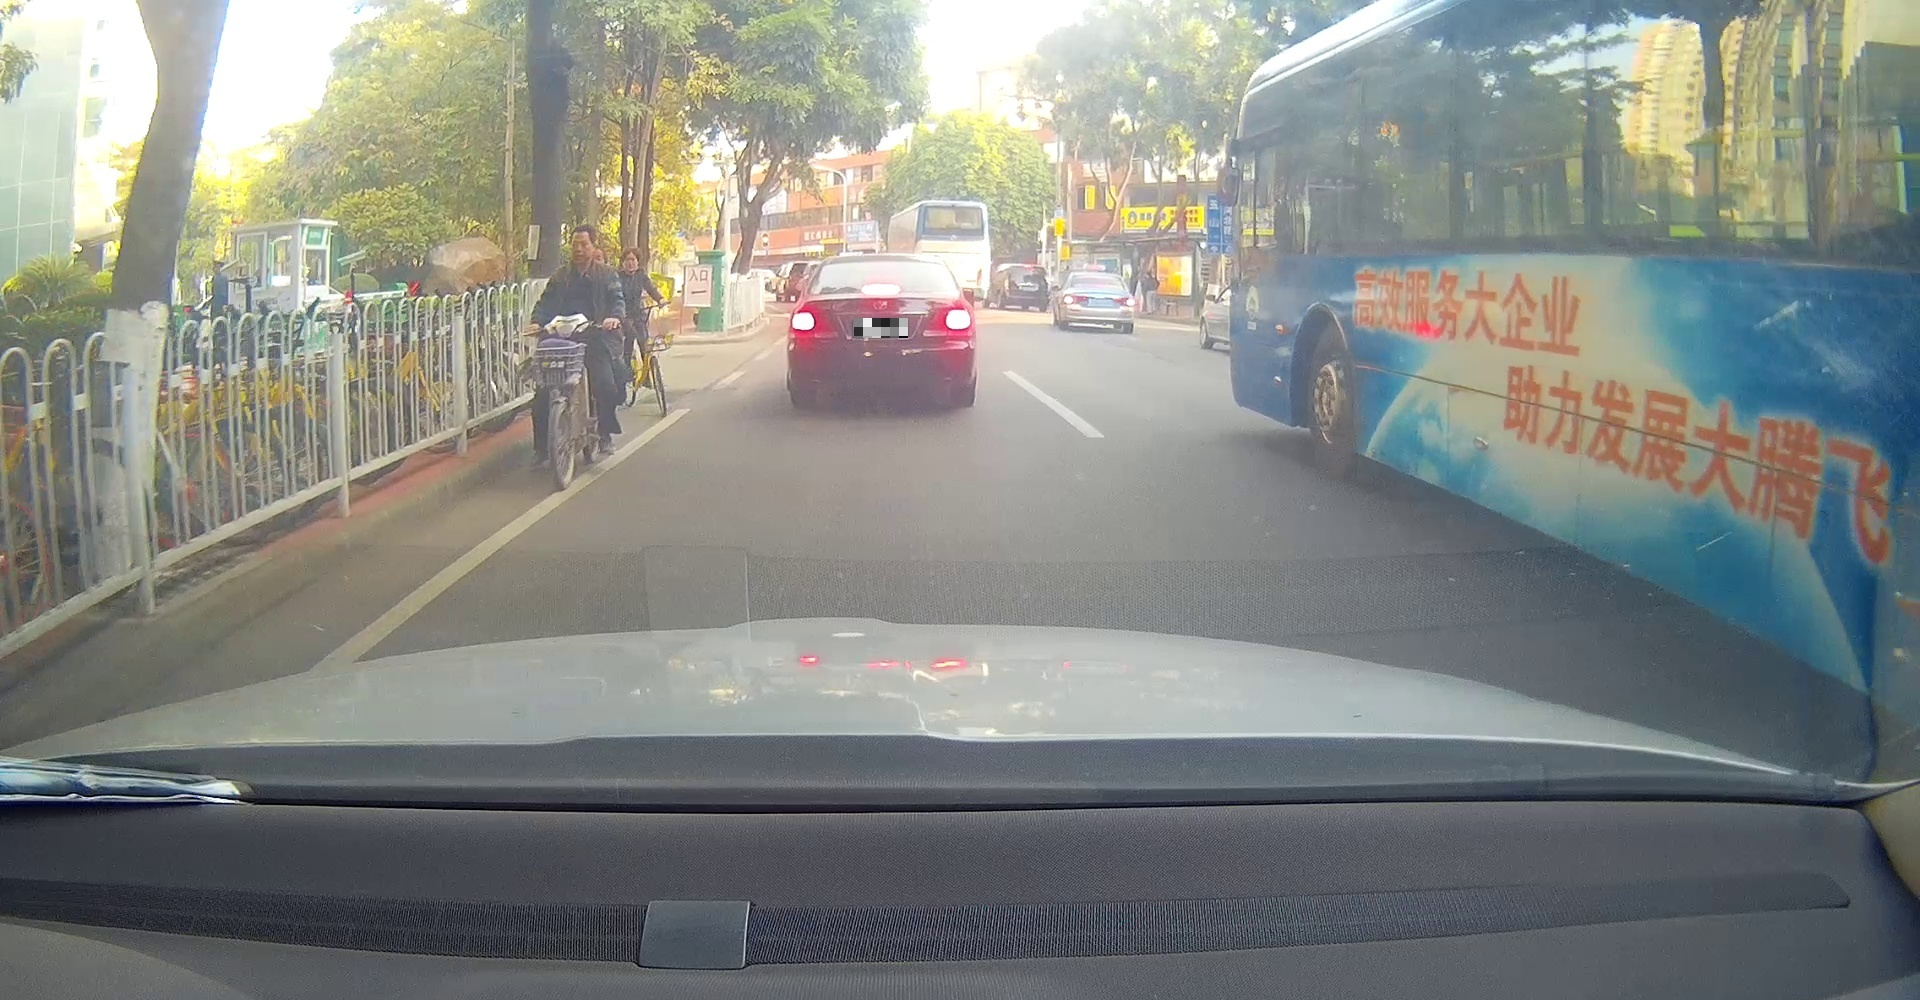L_light: (790, 311, 815, 330), (1062, 294, 1087, 305)
R_light: (943, 310, 971, 330), (1114, 297, 1135, 306)
T_light: (860, 284, 902, 296), (1092, 275, 1103, 278)
day-brake: (786, 254, 975, 406), (1062, 272, 1137, 332)
plate_1: (855, 319, 908, 338)
